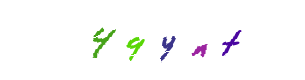4: (76, 0, 156, 80)
N: (159, 0, 239, 80)
Q: (112, 0, 192, 80)
T: (159, 0, 239, 80)
Y: (119, 0, 199, 80)
